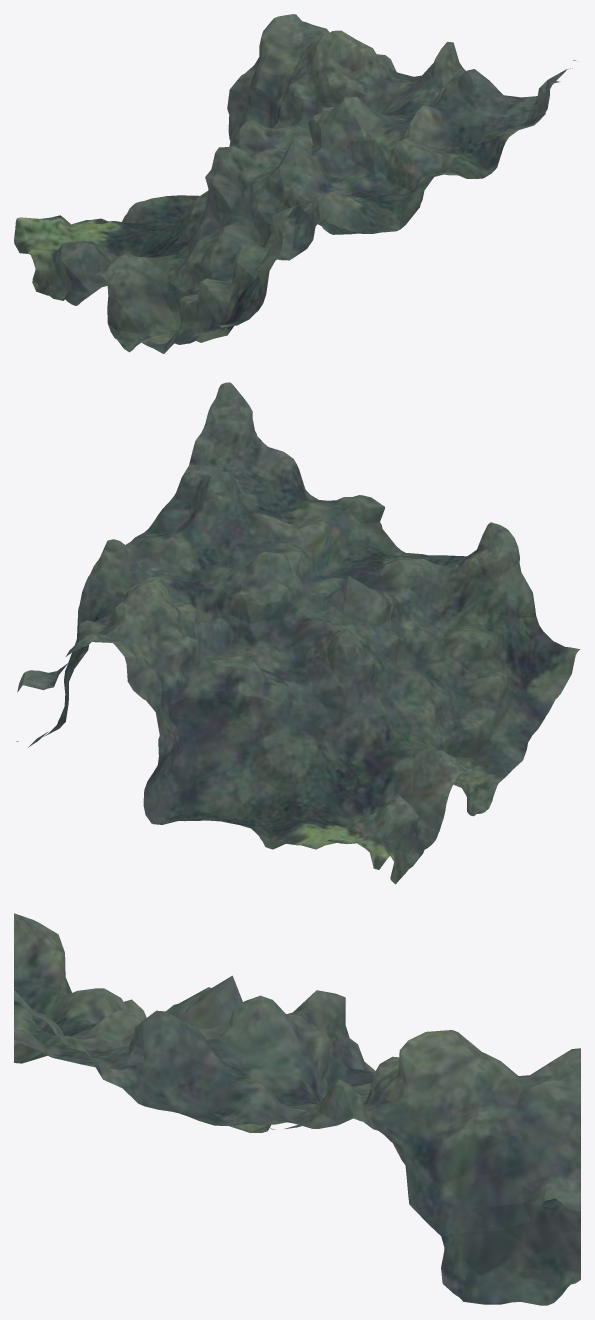
File: Tile__004__004_L21_0002030.glb
3 renders of one model, top to bottom at view 1: azimuth 30°, elevation 25°; view 2: azimuth 150°, elevation 25°; view 3: azimuth 270°, elevation 25°, orthographic. The views are drawn at different scales.
Parts seen in each view (by area): view 1: root; view 2: root; view 3: root.
Part boxes in pixels (bbox=[...]): root: bbox=[14, 14, 575, 353]; root: bbox=[16, 382, 580, 884]; root: bbox=[14, 913, 580, 1305].
Size of the model in its own units: 12.63 by 9.43 by 12.63.
1 material, 1 textured.
